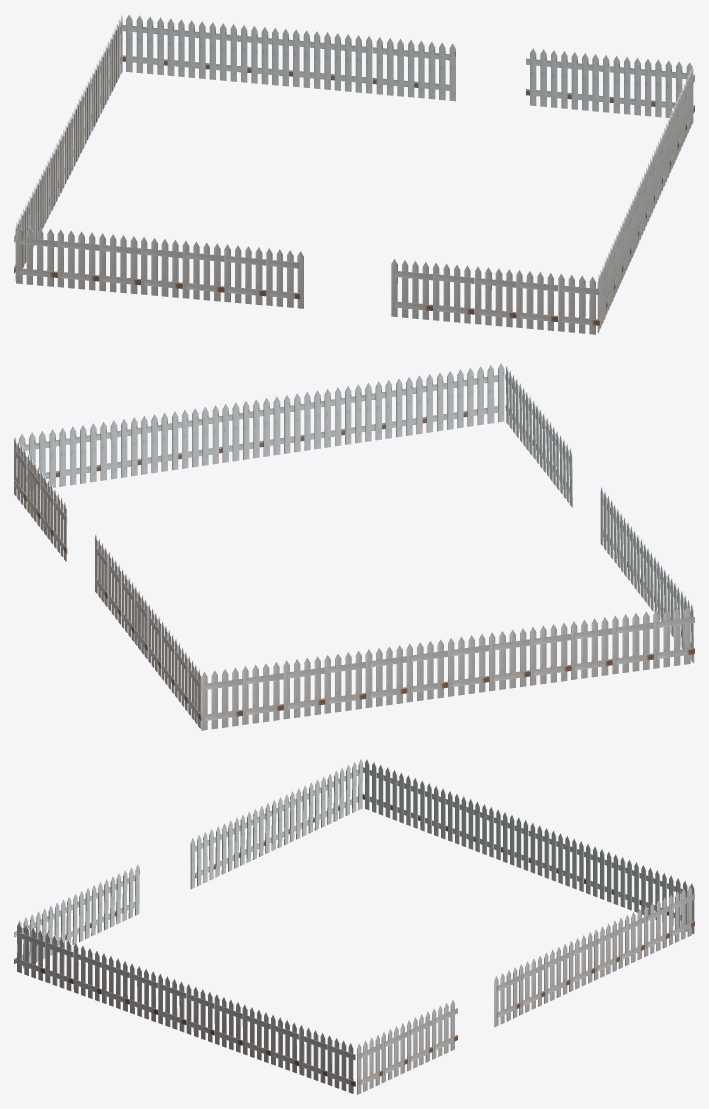
File: Fence_1.fbx
The picture shows the model from 3 angles, top to bottom: view 1: azimuth 30°, elevation 25°; view 2: azimuth 150°, elevation 25°; view 3: azimuth 270°, elevation 25°; orthographic projection. The views are drawn at different scales.
Parts seen in each view (by area): view 1: 柵右.001; view 2: 柵右.001; view 3: 柵右.001.
Boxes of the visible parts, x1,y1,x2,y2 form: 柵右.001: (14,14,694,334); 柵右.001: (14,363,694,730); 柵右.001: (14,759,694,1094).
Bounding box in the file's own units: 77.28 × 6.4 × 77.13.
Materials: 2 (2 with a texture image).
